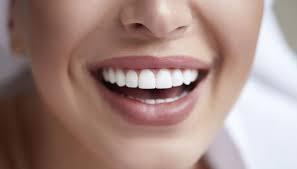normal: (155, 68, 174, 91), (138, 68, 156, 91), (124, 68, 140, 90), (115, 66, 129, 89), (170, 67, 184, 87), (182, 65, 194, 85), (108, 66, 117, 85), (143, 97, 156, 107), (156, 97, 168, 106), (192, 65, 199, 79), (101, 68, 108, 82)
